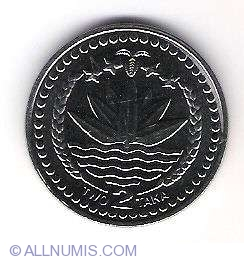5 taka coin: (26, 23, 229, 227)
